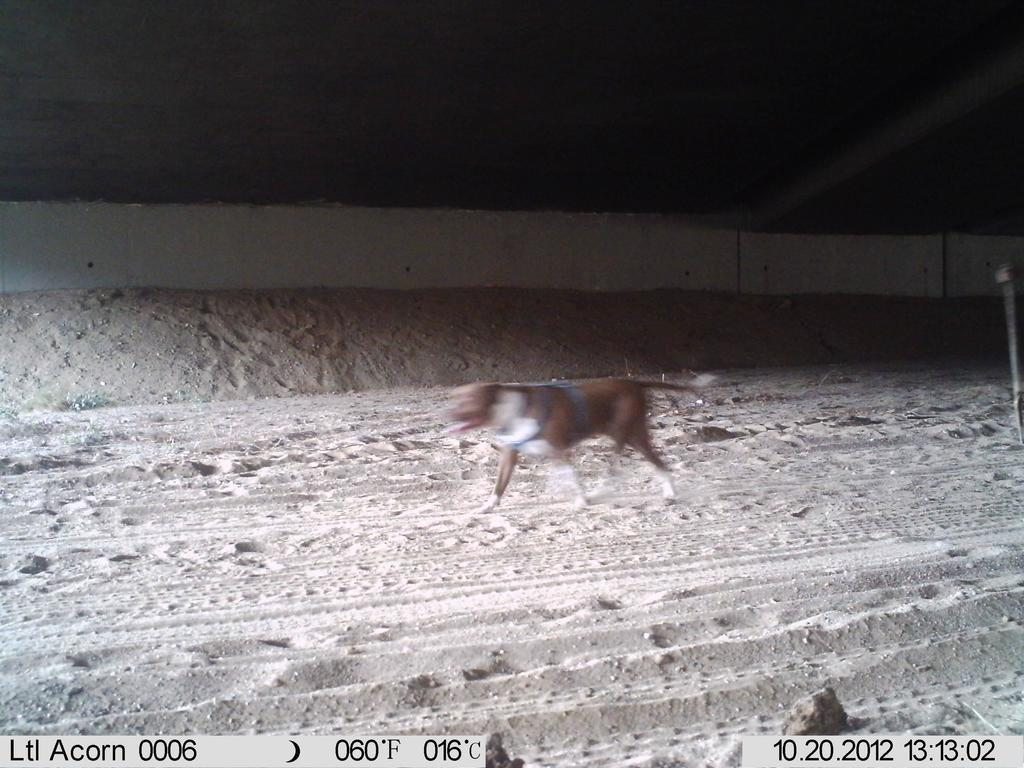dog: (423, 363, 721, 533)
